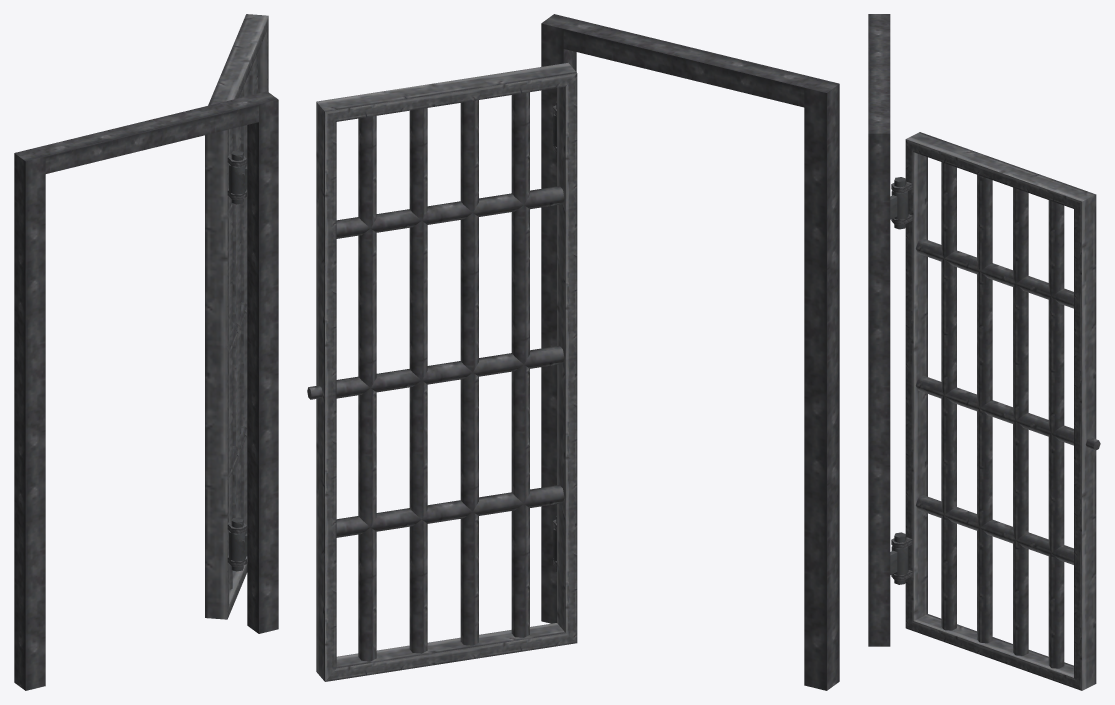
File: steel-gate-01-open.fbx
3 renders of one model, left to right at view 1: azimuth 30°, elevation 25°; view 2: azimuth 150°, elevation 25°; view 3: azimuth 270°, elevation 25°, orthographic. The views are drawn at different scales.
Visible parts, largest first — view 1: Cube.278; view 2: Cube.278; view 3: Cube.278.
Part boxes in pixels (x1,y1,x2,y2): Cube.278: [14, 14, 278, 690]; Cube.278: [307, 14, 839, 690]; Cube.278: [868, 14, 1100, 690].
Size of the model in its own units: 1.41 by 2 by 0.8211.
